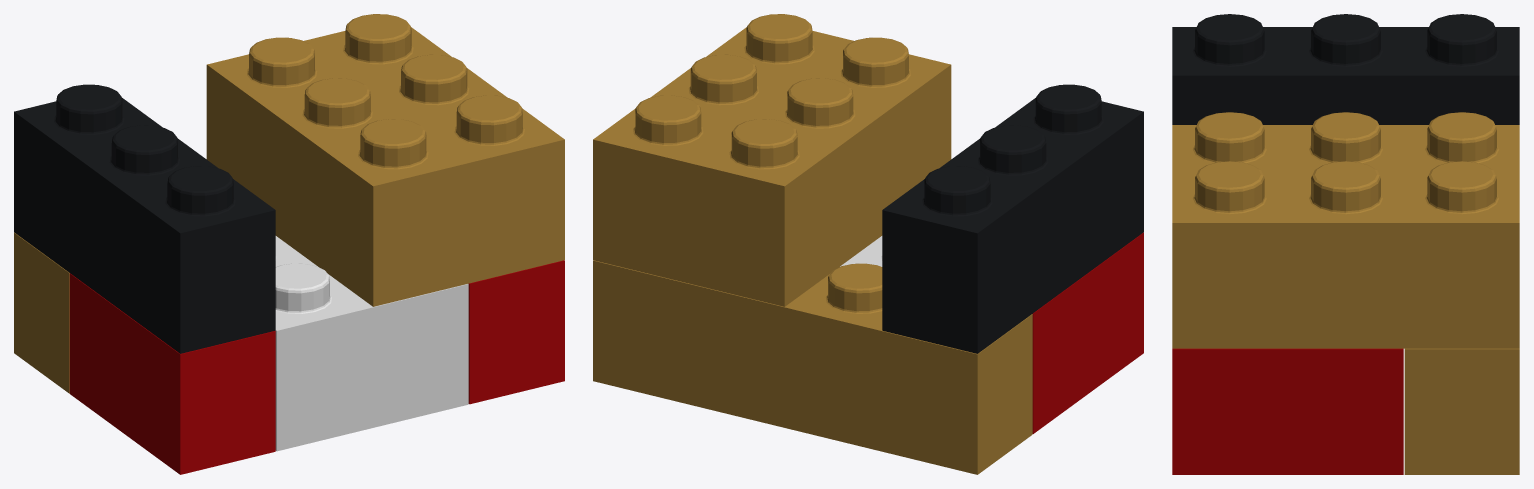
Rendered from SmallObj_v2.dae.
3 renders of one model, left to right at view 1: azimuth 30°, elevation 25°; view 2: azimuth 150°, elevation 25°; view 3: azimuth 270°, elevation 25°, orthographic. The views are drawn at different scales.
Visible parts, largest first — view 1: Part.0, Part.5, Part.1, Part.3, Part.2, Part.4; view 2: Part.0, Part.4, Part.5, Part.3, Part.1; view 3: Part.0, Part.5, Part.2, Part.4.
Boxes of the visible parts, x1=… form: Part.0: x1=206, y1=14, x2=564, y2=306; Part.5: x1=14, y1=84, x2=275, y2=353; Part.1: x1=275, y1=236, x2=468, y2=451; Part.3: x1=69, y1=273, x2=275, y2=474; Part.2: x1=468, y1=260, x2=564, y2=404; Part.4: x1=14, y1=232, x2=69, y2=393; Part.0: x1=593, y1=14, x2=951, y2=306; Part.4: x1=593, y1=260, x2=1032, y2=474; Part.5: x1=882, y1=84, x2=1143, y2=353; Part.3: x1=1032, y1=232, x2=1143, y2=433; Part.1: x1=840, y1=236, x2=882, y2=266; Part.0: x1=1172, y1=112, x2=1519, y2=348; Part.5: x1=1172, y1=14, x2=1519, y2=124; Part.2: x1=1172, y1=348, x2=1403, y2=474; Part.4: x1=1404, y1=348, x2=1519, y2=474.
Bounding box in the file's own units: 31.92 × 20.98 × 23.92.
